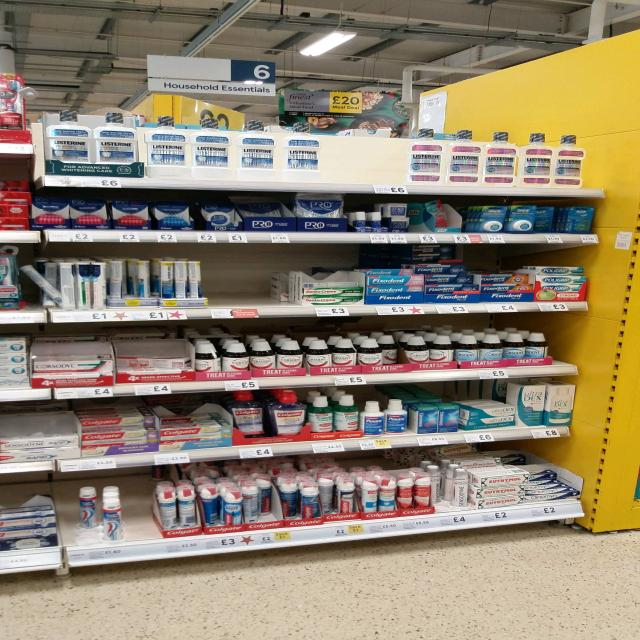void: (326, 110, 401, 195), (247, 249, 288, 319), (128, 475, 156, 557), (212, 251, 242, 318)
